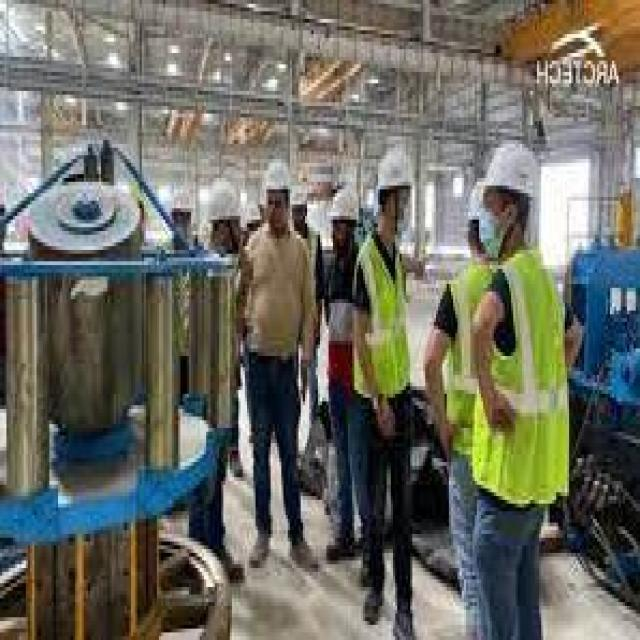Reflective-Jacket: (460, 246, 582, 523), (436, 246, 524, 477), (350, 228, 421, 420)
Safety-Helmet: (474, 129, 548, 212), (367, 136, 417, 212), (256, 144, 305, 212), (202, 170, 243, 231), (324, 170, 363, 231)
